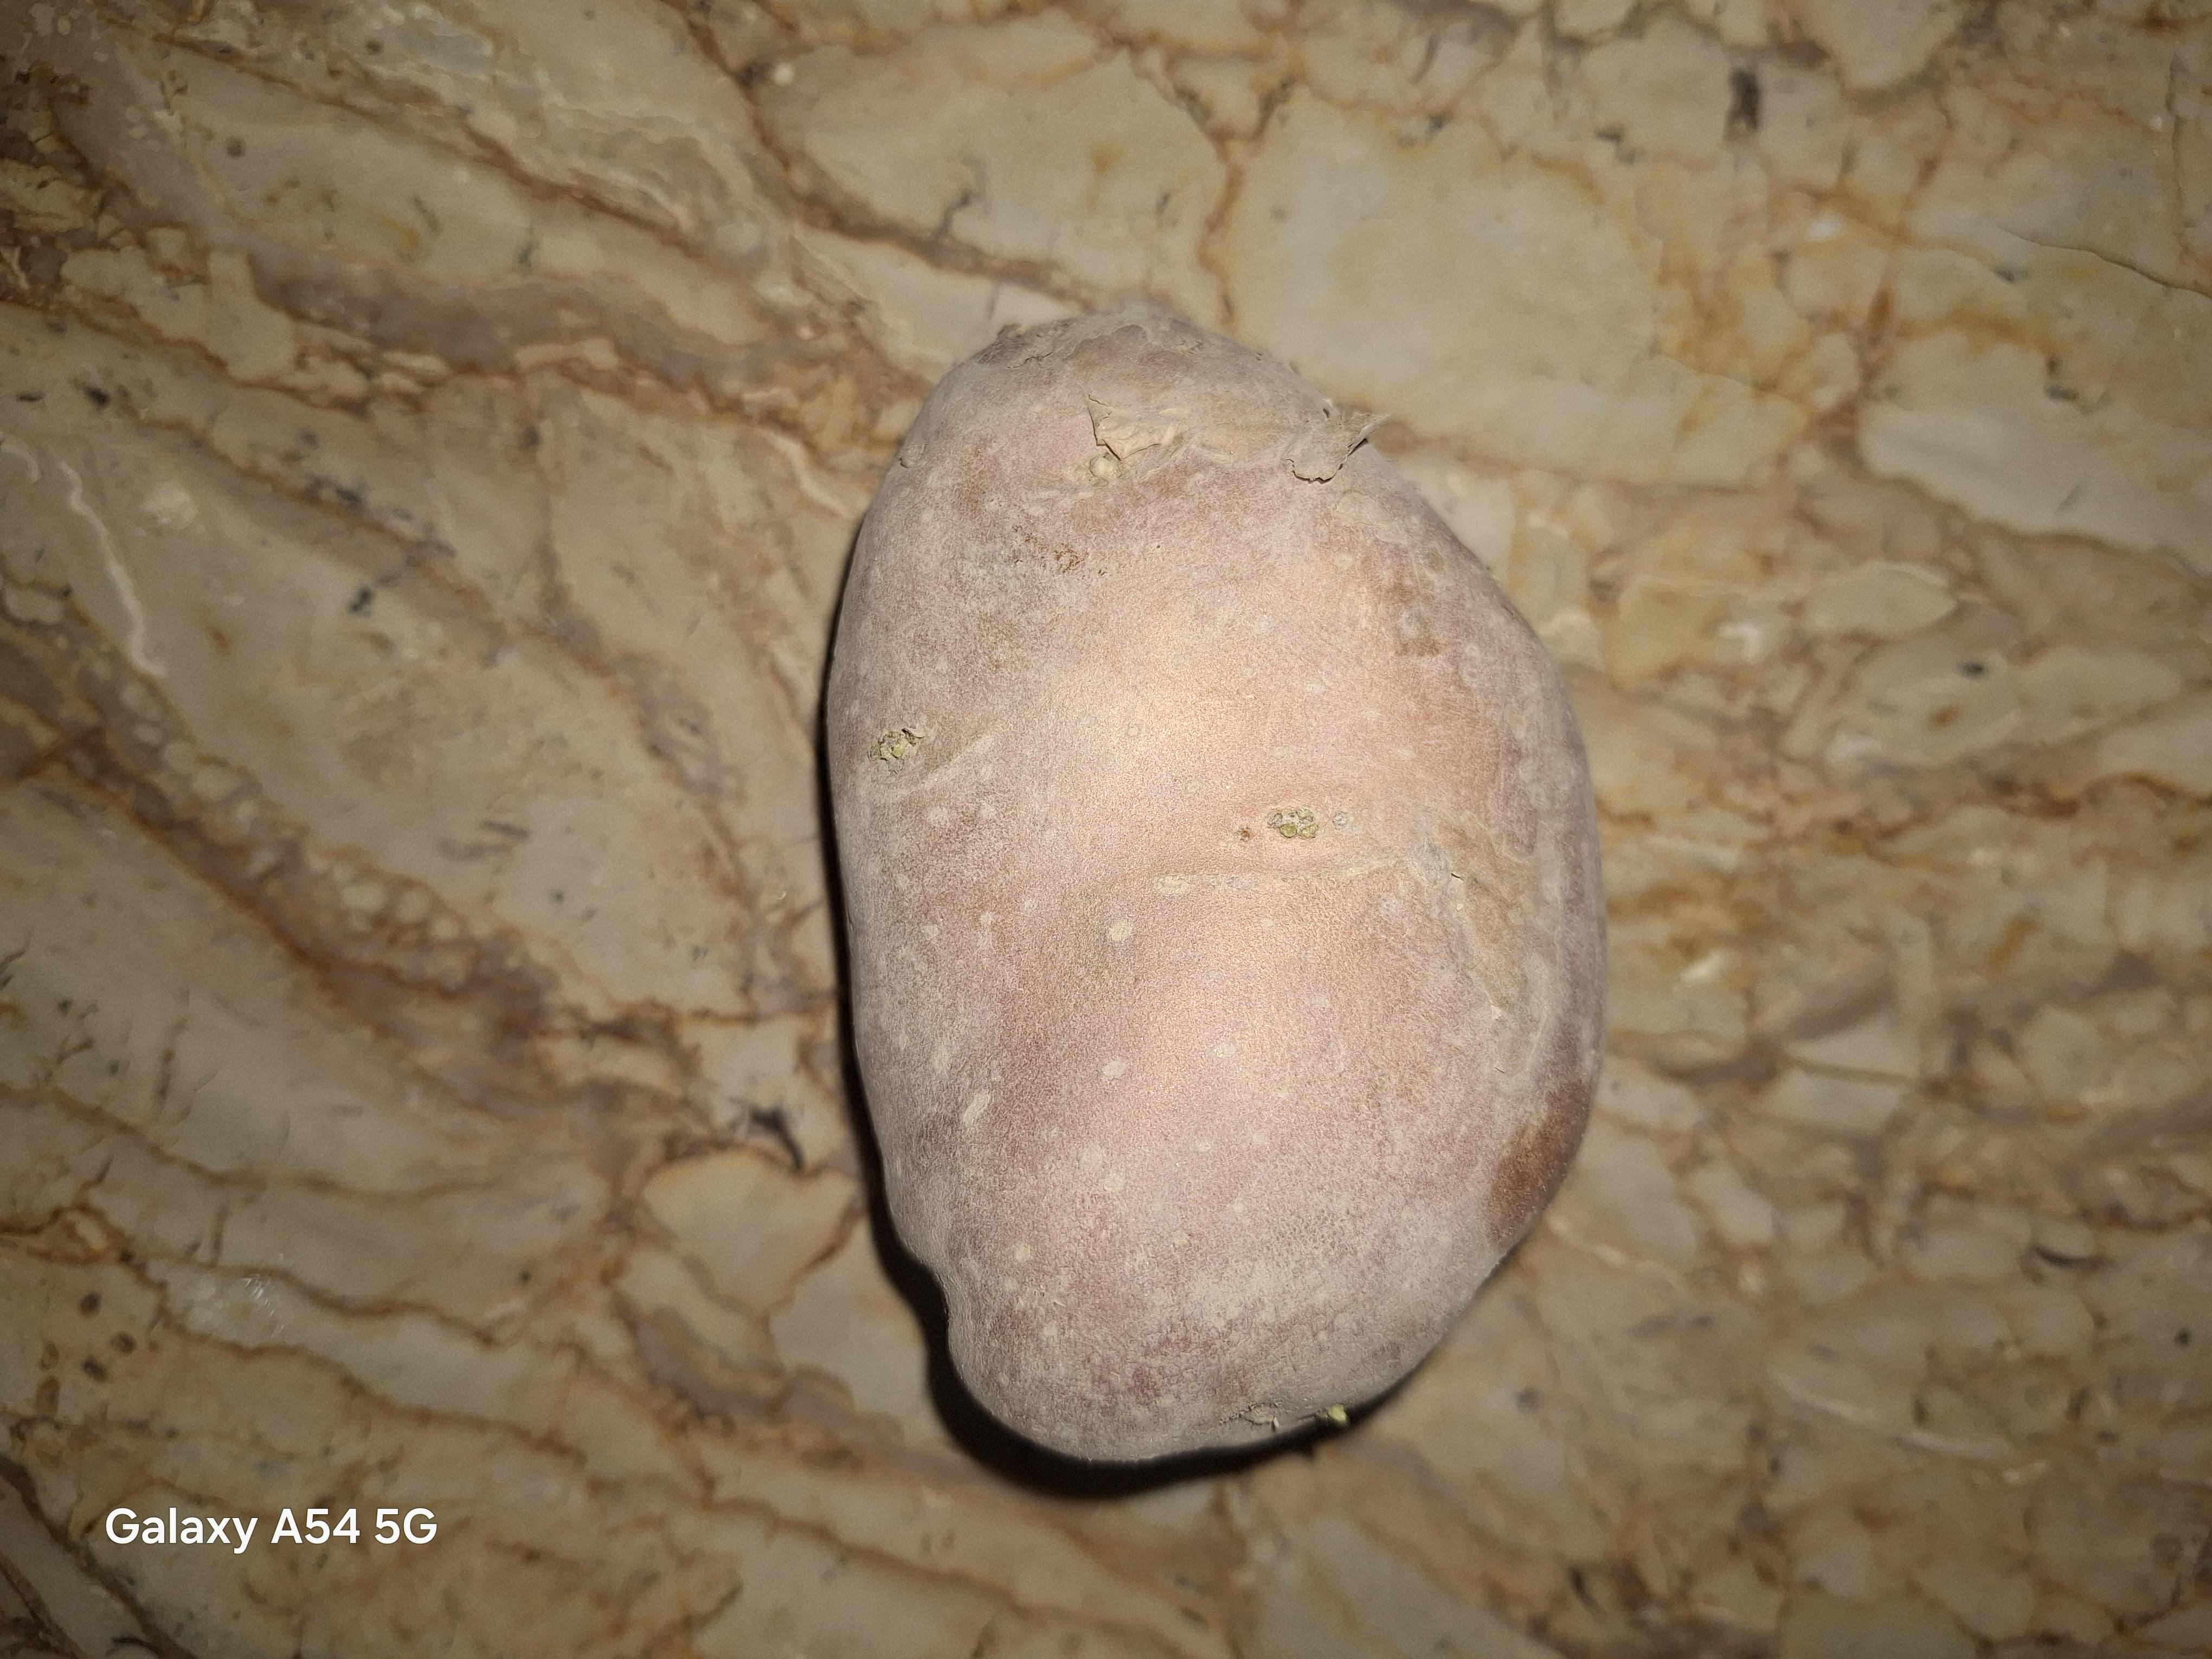non-mango: (817, 300, 1611, 1471)
